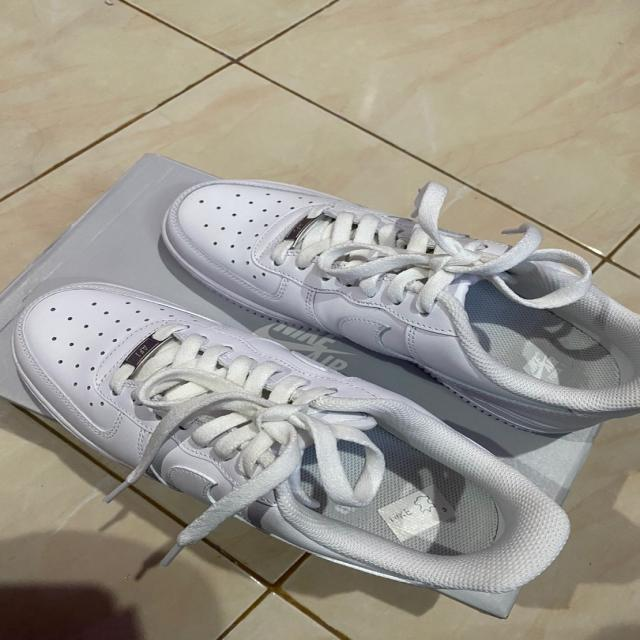nike original air force: (2, 280, 573, 599), (140, 174, 640, 442)
